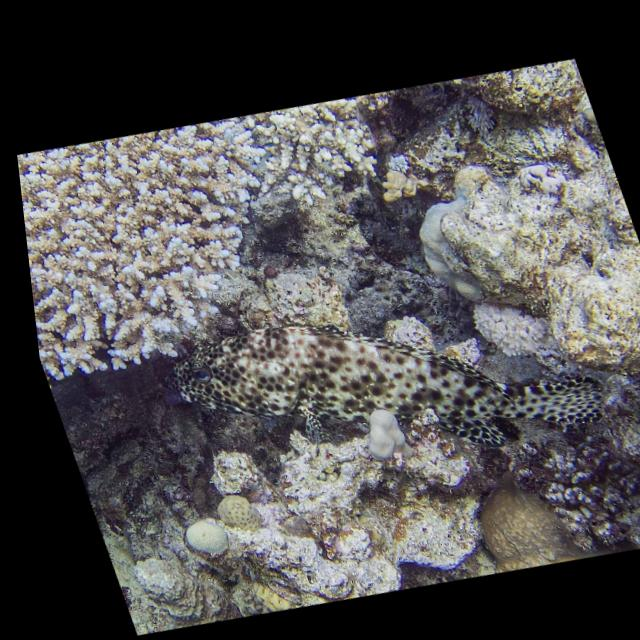Groupers: (134, 236, 632, 533)
